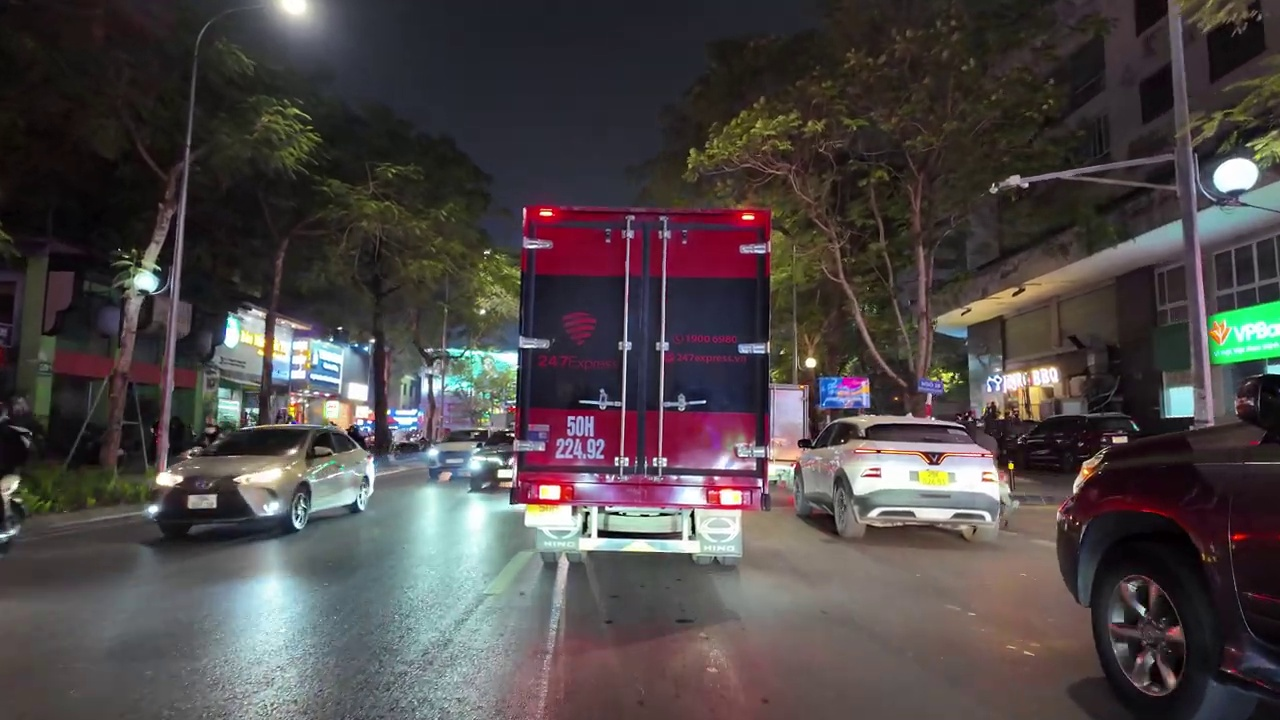acesa: (273, 0, 317, 27)
